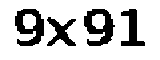1: (120, 6, 150, 52)
9: (81, 6, 118, 52), (11, 4, 43, 51)
x: (47, 13, 77, 52)
